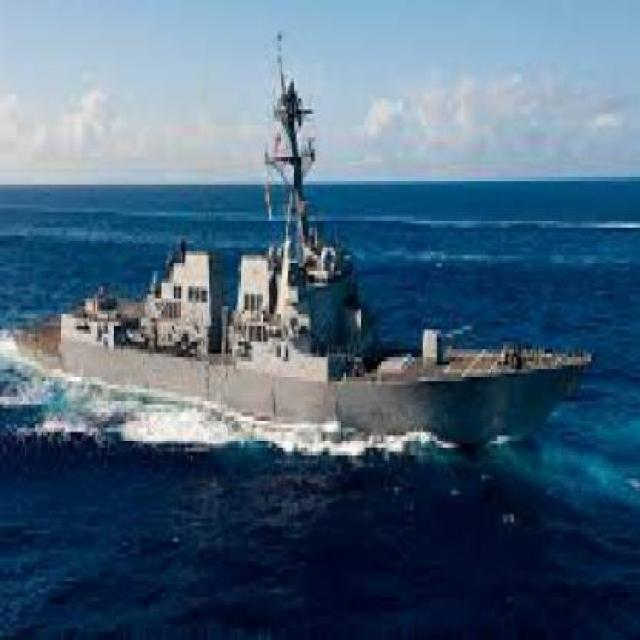warship2: (8, 20, 617, 473)
